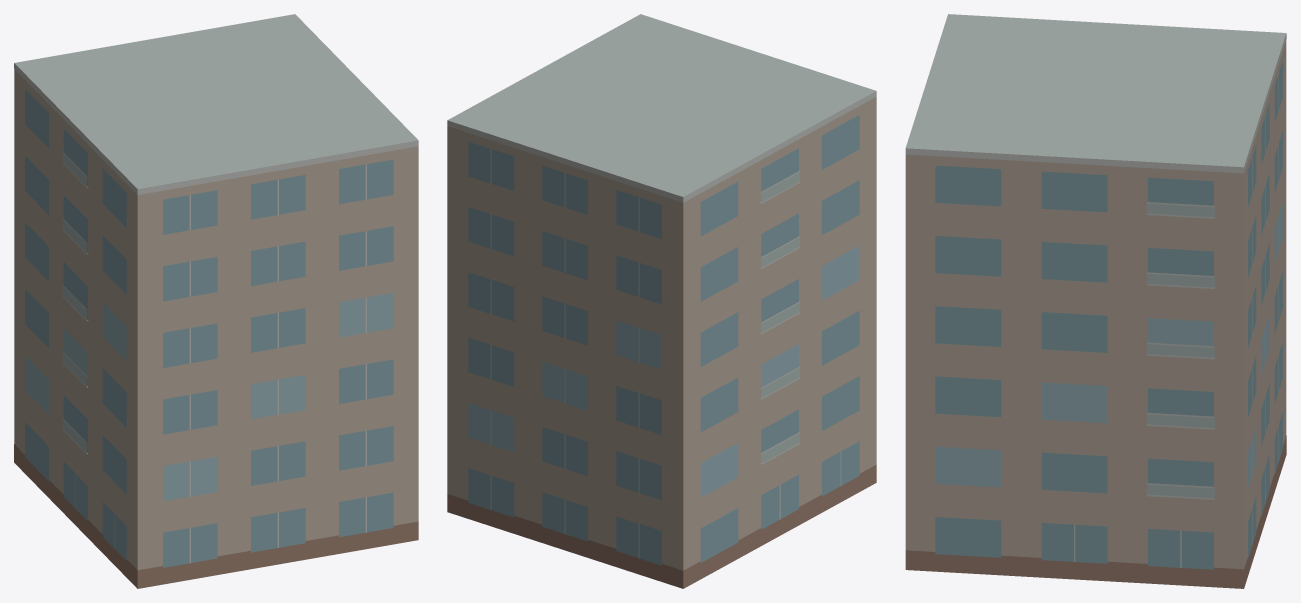
Rendered from survey-upis-32667816.glb.
3 renders of one model, left to right at view 1: azimuth 30°, elevation 25°; view 2: azimuth 150°, elevation 25°; view 3: azimuth 270°, elevation 25°, orthographic. The views are drawn at different scales.
Parts seen in each view (by area): view 1: survey-upis-32667816.tmp; view 2: survey-upis-32667816.tmp; view 3: survey-upis-32667816.tmp.
Part boxes in pixels (bbox=[...]): survey-upis-32667816.tmp: bbox=[14, 14, 418, 588]; survey-upis-32667816.tmp: bbox=[447, 14, 876, 588]; survey-upis-32667816.tmp: bbox=[905, 14, 1286, 588].
Size of the model in its own units: 13.03 by 16.7 by 13.69.
